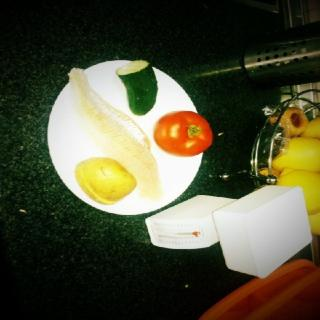tomato: (151, 105, 217, 154)
